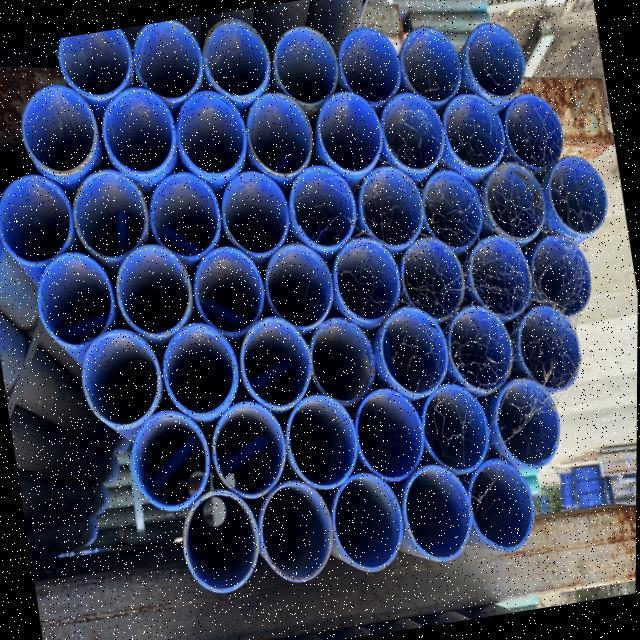pipe: (248, 479, 334, 582), (124, 409, 210, 511), (23, 249, 113, 345), (177, 485, 259, 590), (78, 327, 162, 428), (331, 470, 406, 571), (455, 455, 534, 549), (116, 244, 195, 338), (286, 392, 360, 491), (350, 386, 426, 481), (160, 322, 237, 415), (376, 306, 454, 397), (404, 457, 473, 558), (213, 401, 284, 498), (240, 315, 314, 408), (70, 166, 146, 256), (146, 167, 223, 255), (0, 172, 71, 265), (192, 247, 267, 335), (96, 86, 169, 175), (20, 83, 93, 171), (283, 163, 357, 249), (493, 377, 562, 469), (309, 316, 380, 405), (263, 244, 335, 331), (446, 300, 515, 390), (398, 232, 466, 323), (422, 382, 490, 471), (221, 167, 289, 255), (171, 88, 242, 172), (514, 303, 581, 391), (331, 239, 402, 322), (311, 88, 379, 174), (240, 91, 308, 175), (270, 25, 341, 104), (200, 16, 269, 96), (377, 88, 443, 171), (131, 19, 201, 97), (358, 163, 424, 245), (438, 93, 504, 174), (469, 232, 532, 316), (543, 153, 603, 239), (398, 26, 464, 103), (480, 159, 541, 242), (418, 169, 481, 249), (337, 27, 400, 107), (530, 233, 591, 315), (501, 92, 561, 173), (460, 19, 522, 96), (58, 28, 128, 94)
